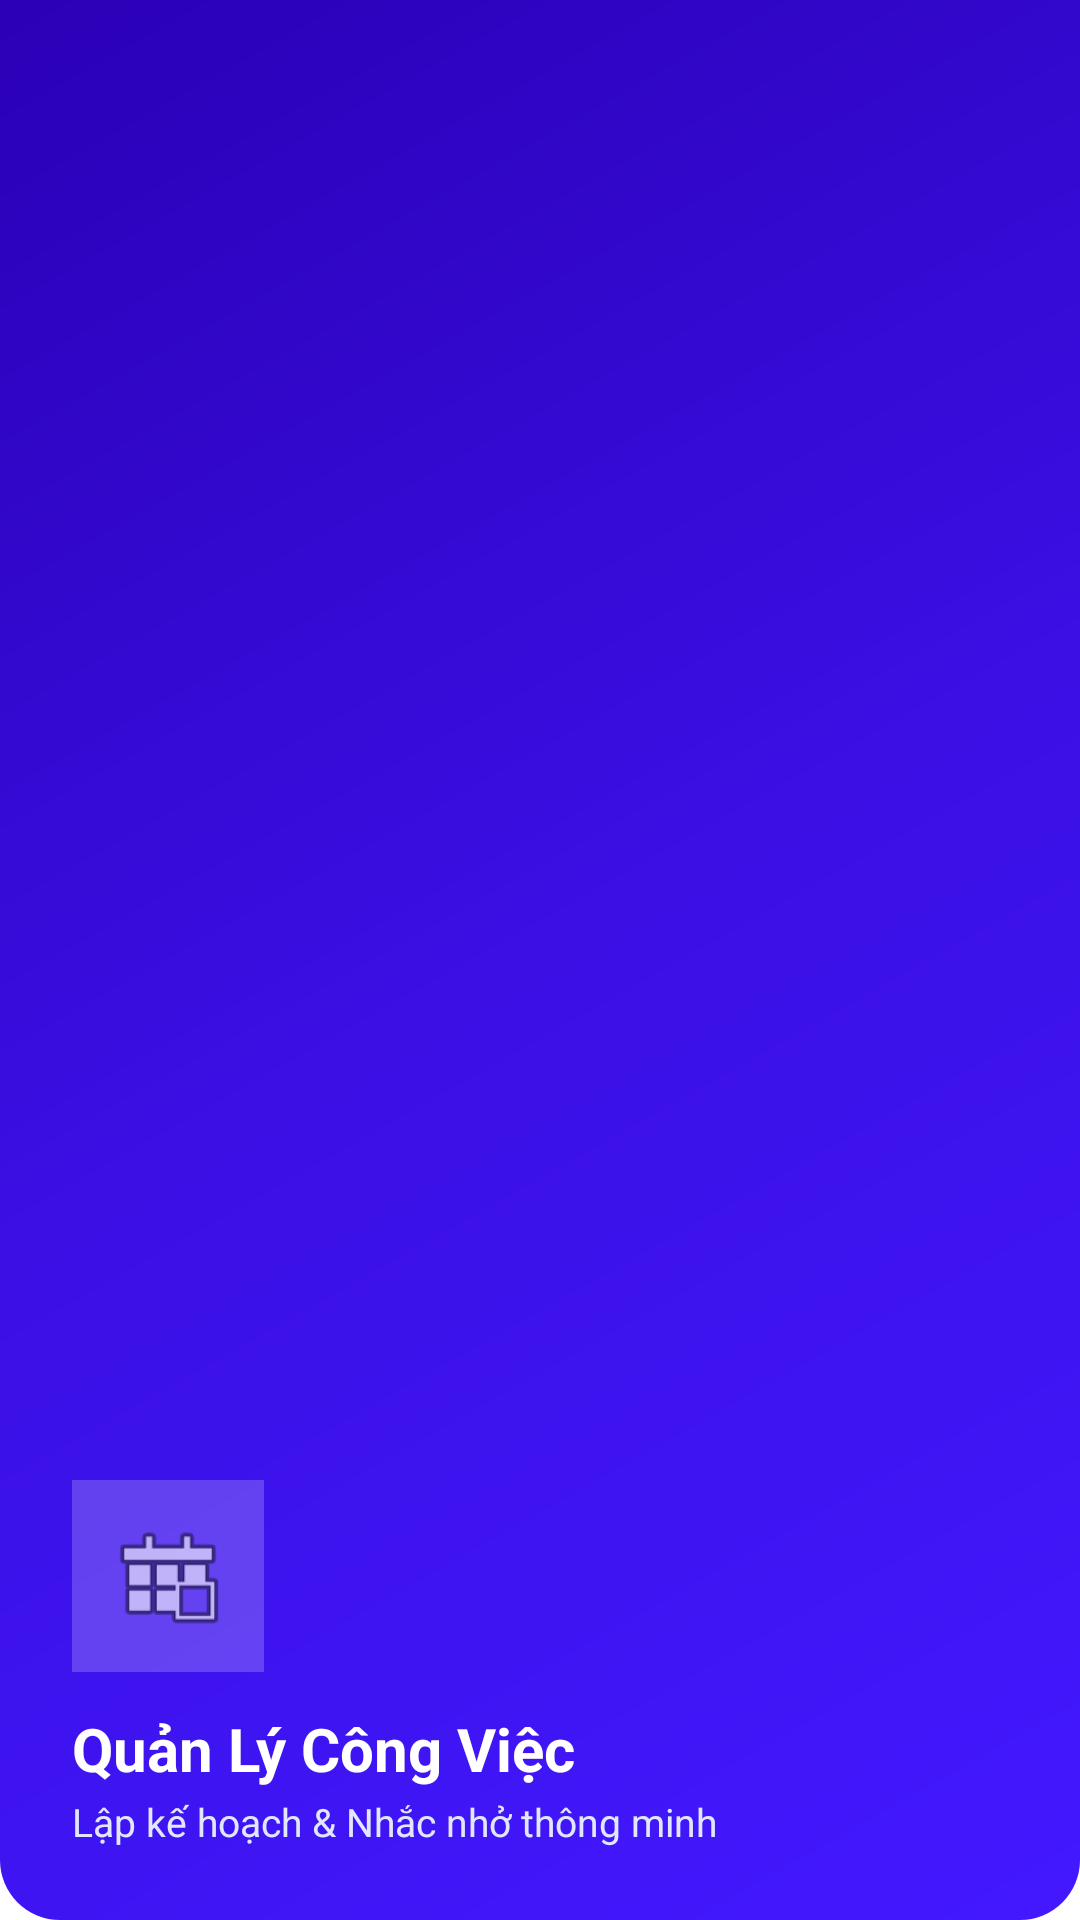

Icon click points for this 1080px x 1920px phone screenshot, format [x,y]:
today: [168,1576]
